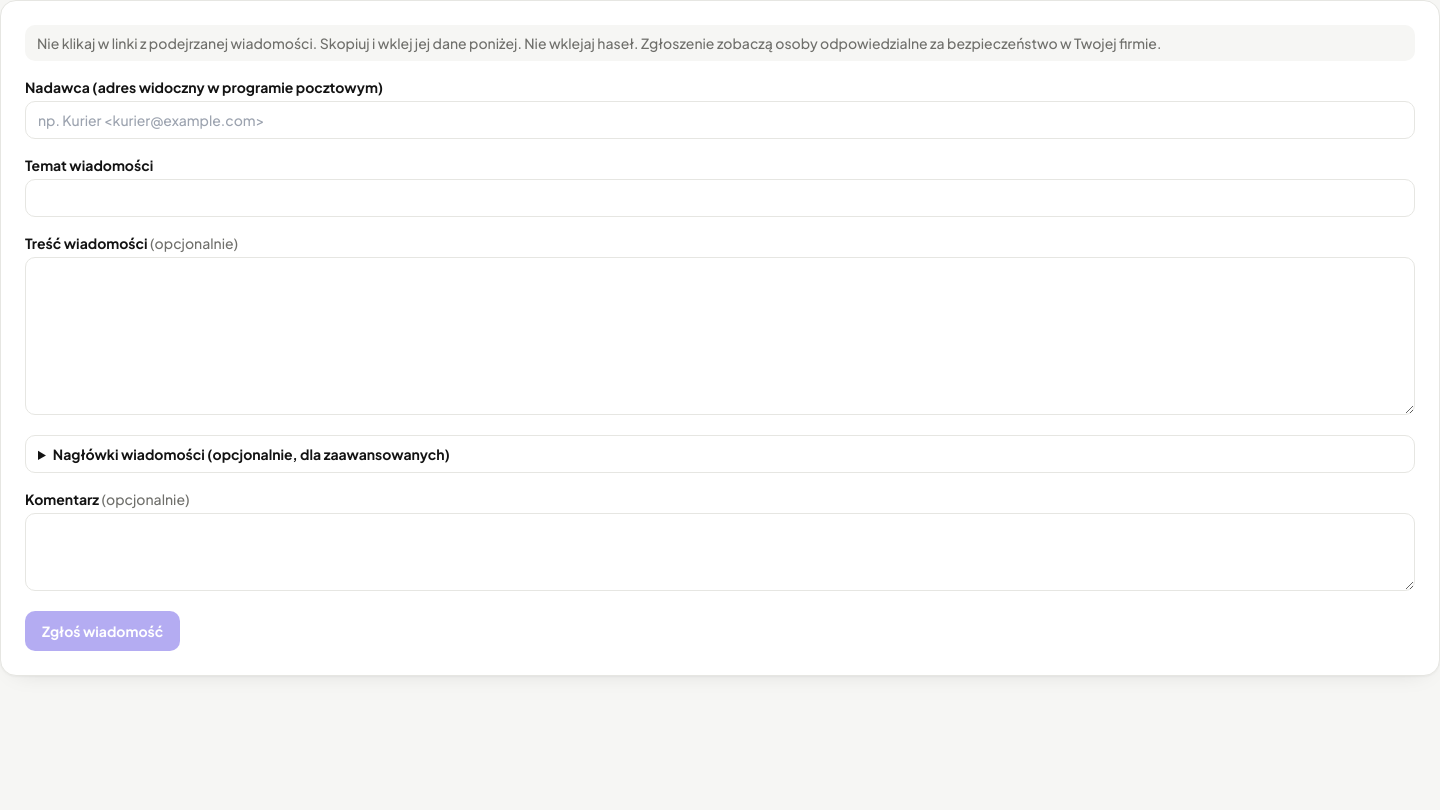
Test: ReportForm › błąd API (limit zgłoszeń) pokazuje komunikat z serwera i zachowuje wpisane dane
In the field labelled "Nadawca (adres widoczny w programie pocztowym)": [720, 120] box 25,101 -> 1415,139, type "Obcy <obcy@example.test>"
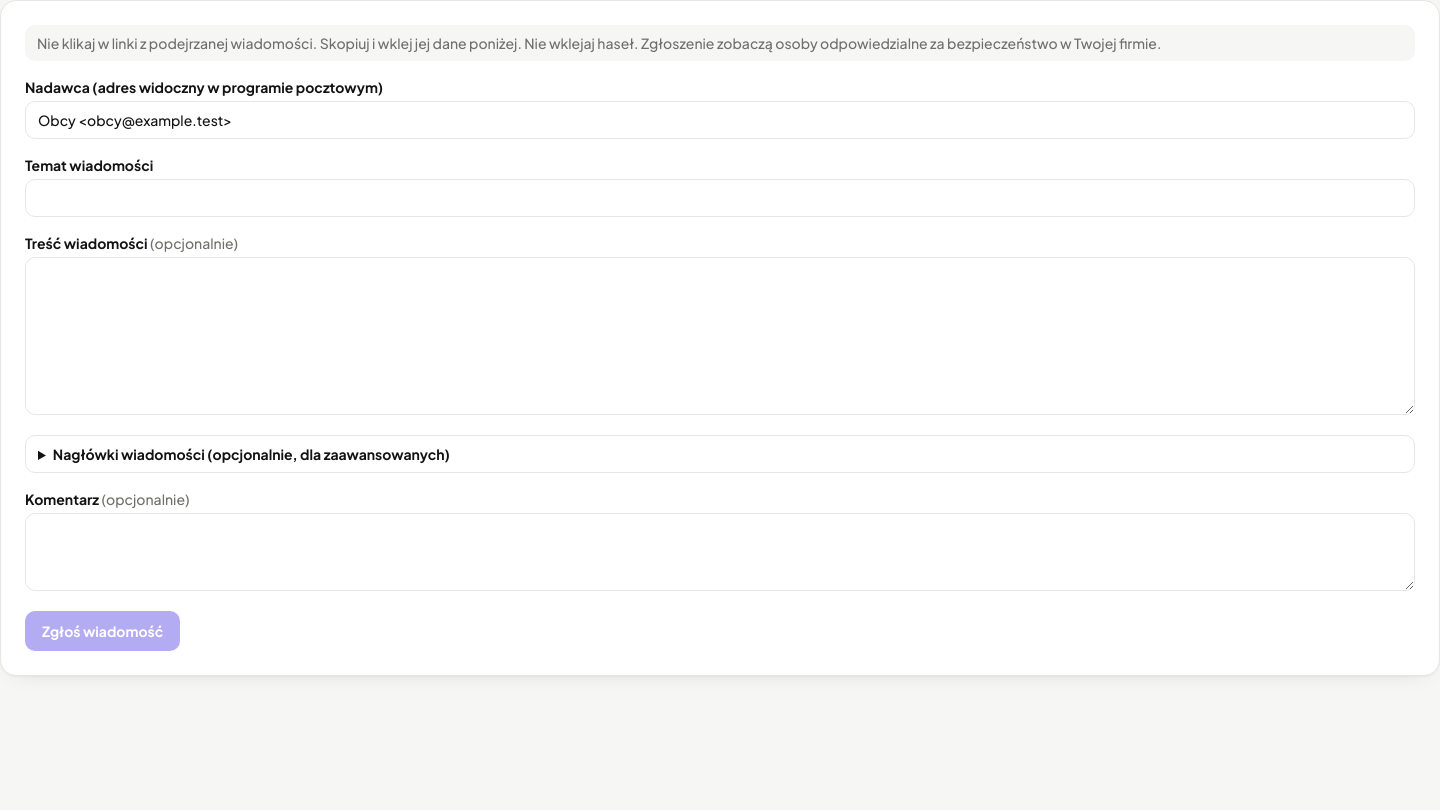
In the field labelled "Temat wiadomości": [720, 198] box 25,179 -> 1415,217, type "Faktura"
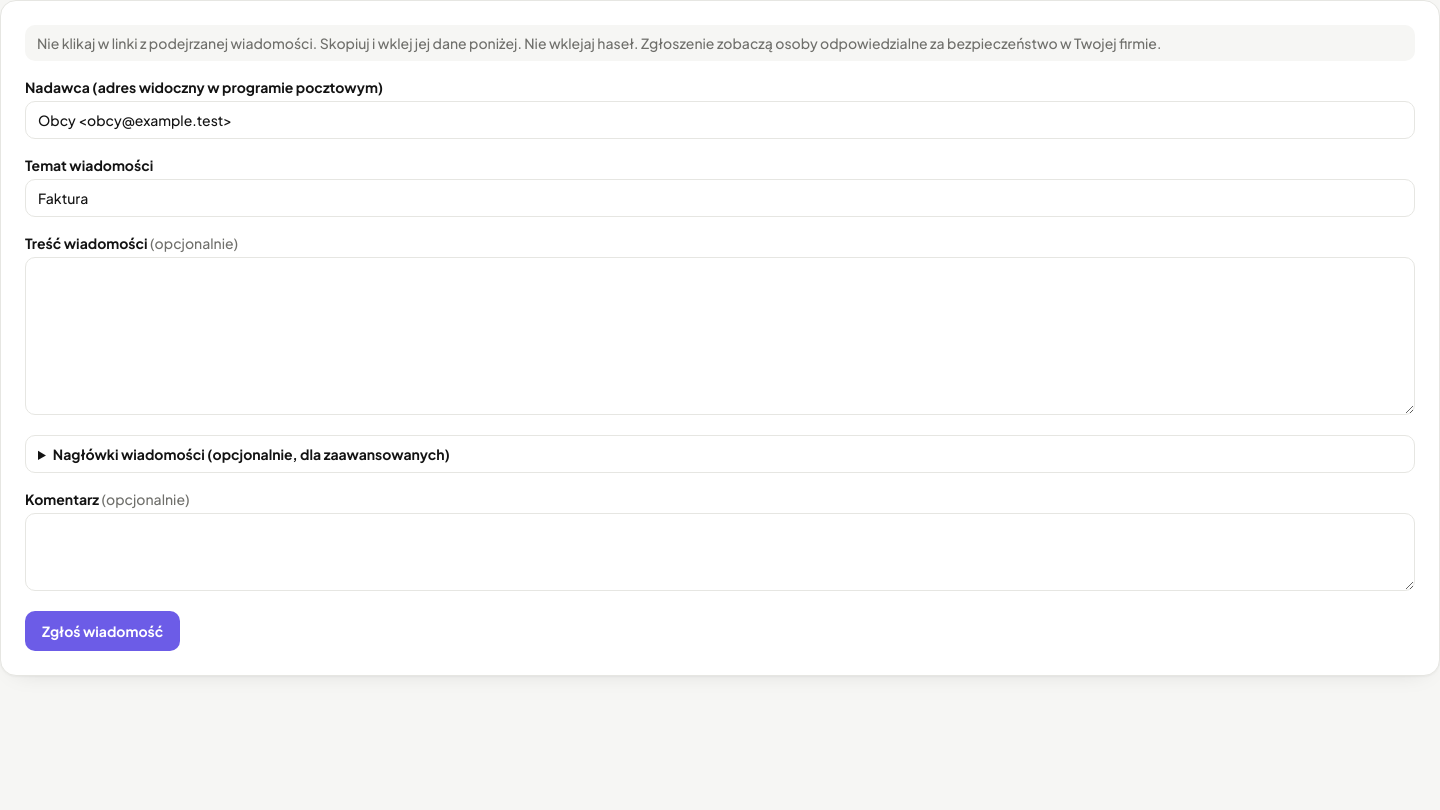
Click the button "Zgłoś wiadomość": [103, 631] box 25,611 -> 180,651
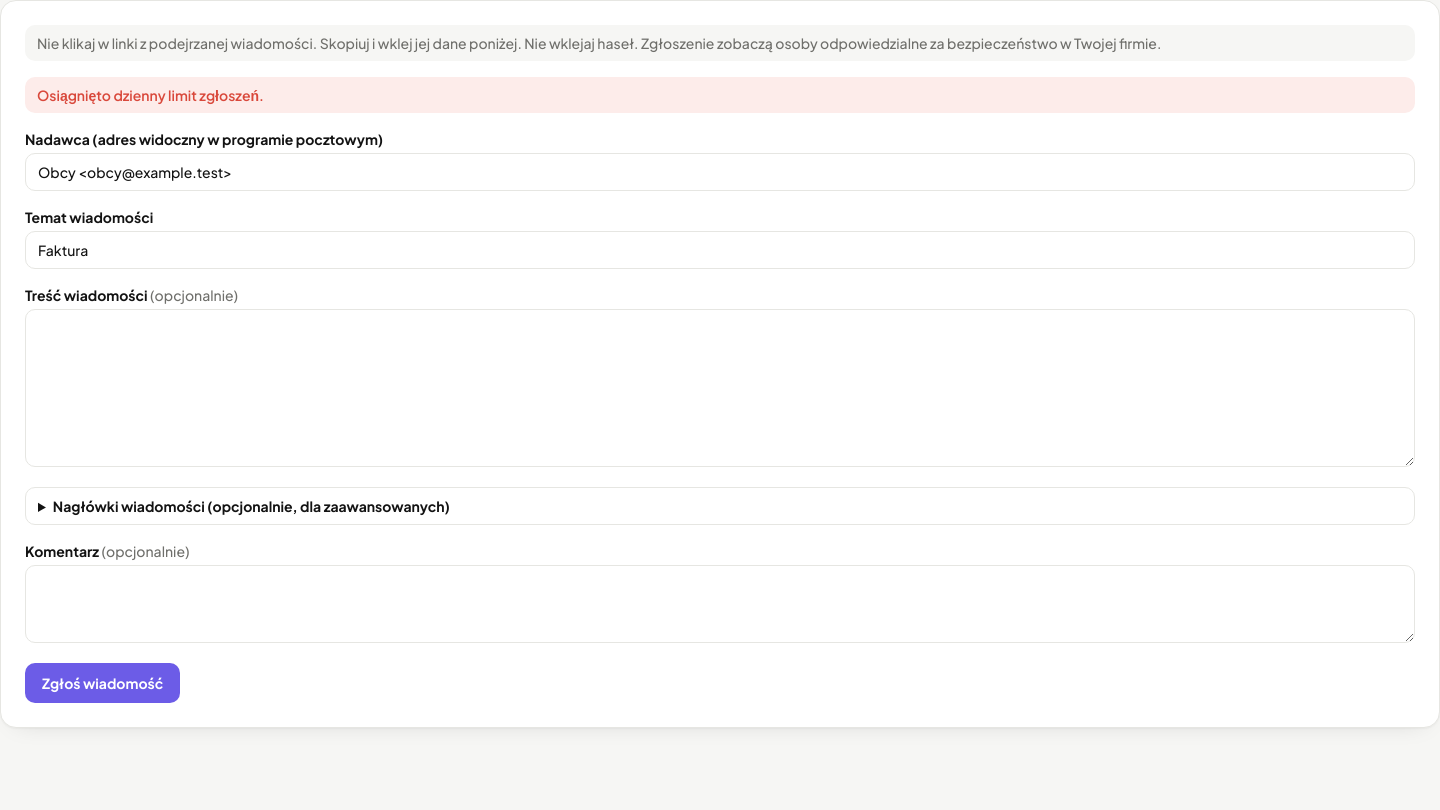
Check: the message reads "Osiągnięto dzienny limit zgłoszeń.", box 37,86 -> 264,104
